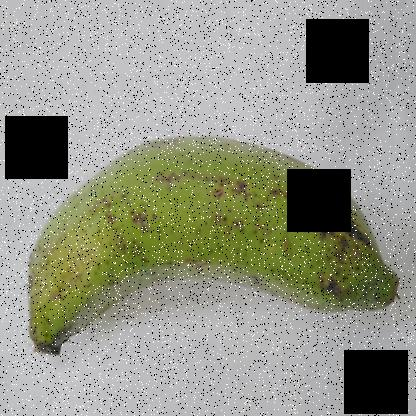rotten: (298, 145, 400, 278)
unripe: (16, 105, 410, 364)
